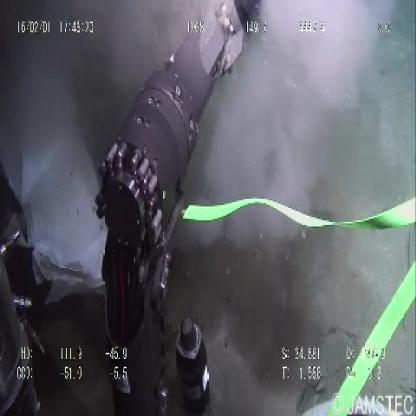Rov: (95, 1, 264, 410)
Rác: (1, 82, 113, 304)
